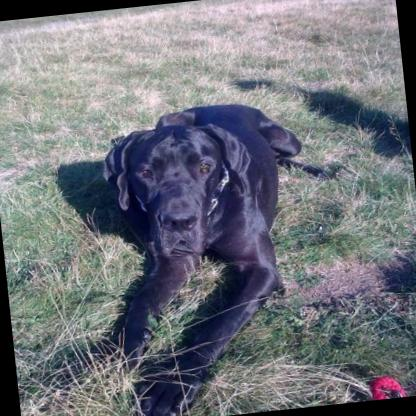Great_Dane: (84, 93, 328, 416)
